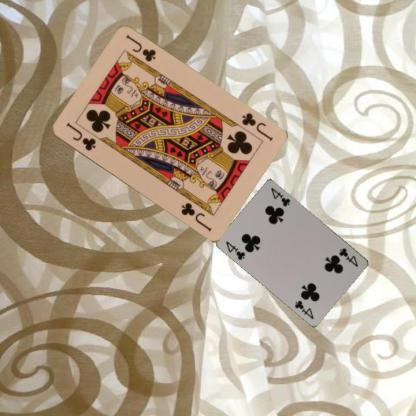4c: (223, 238, 247, 261), (337, 246, 359, 268)
Jc: (238, 110, 274, 142), (63, 120, 97, 153)
